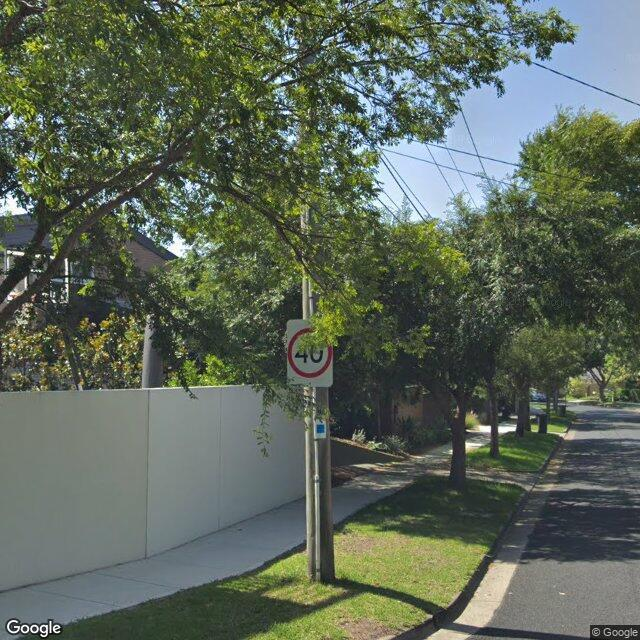timber-pole: (300, 49, 333, 583)
